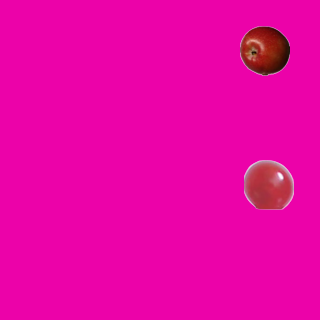Apple Braeburn: (239, 25, 289, 75)
Redcurrant: (243, 159, 293, 209)
